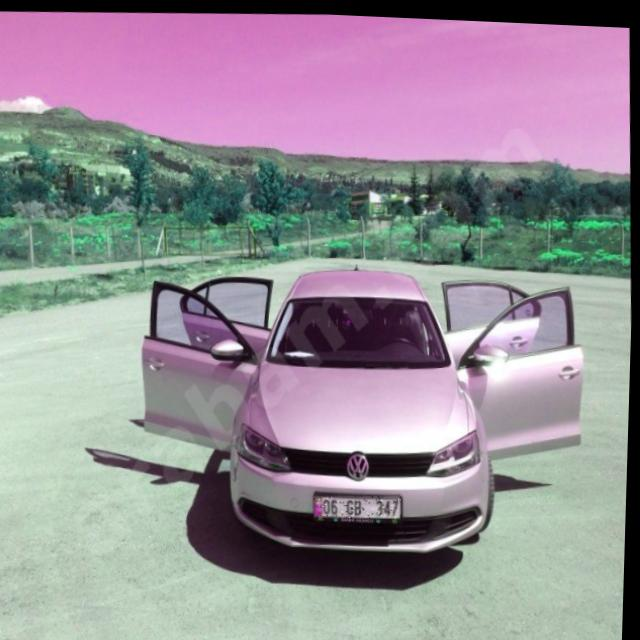license_plate: (316, 489, 404, 518)
